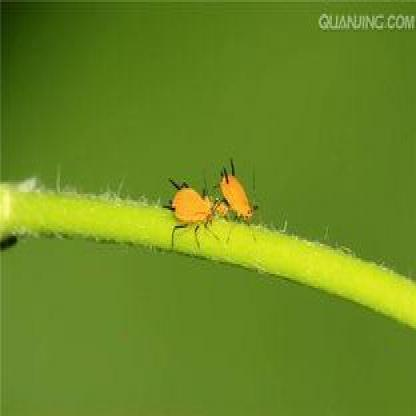aphid: (165, 176, 225, 240), (216, 147, 260, 222)
